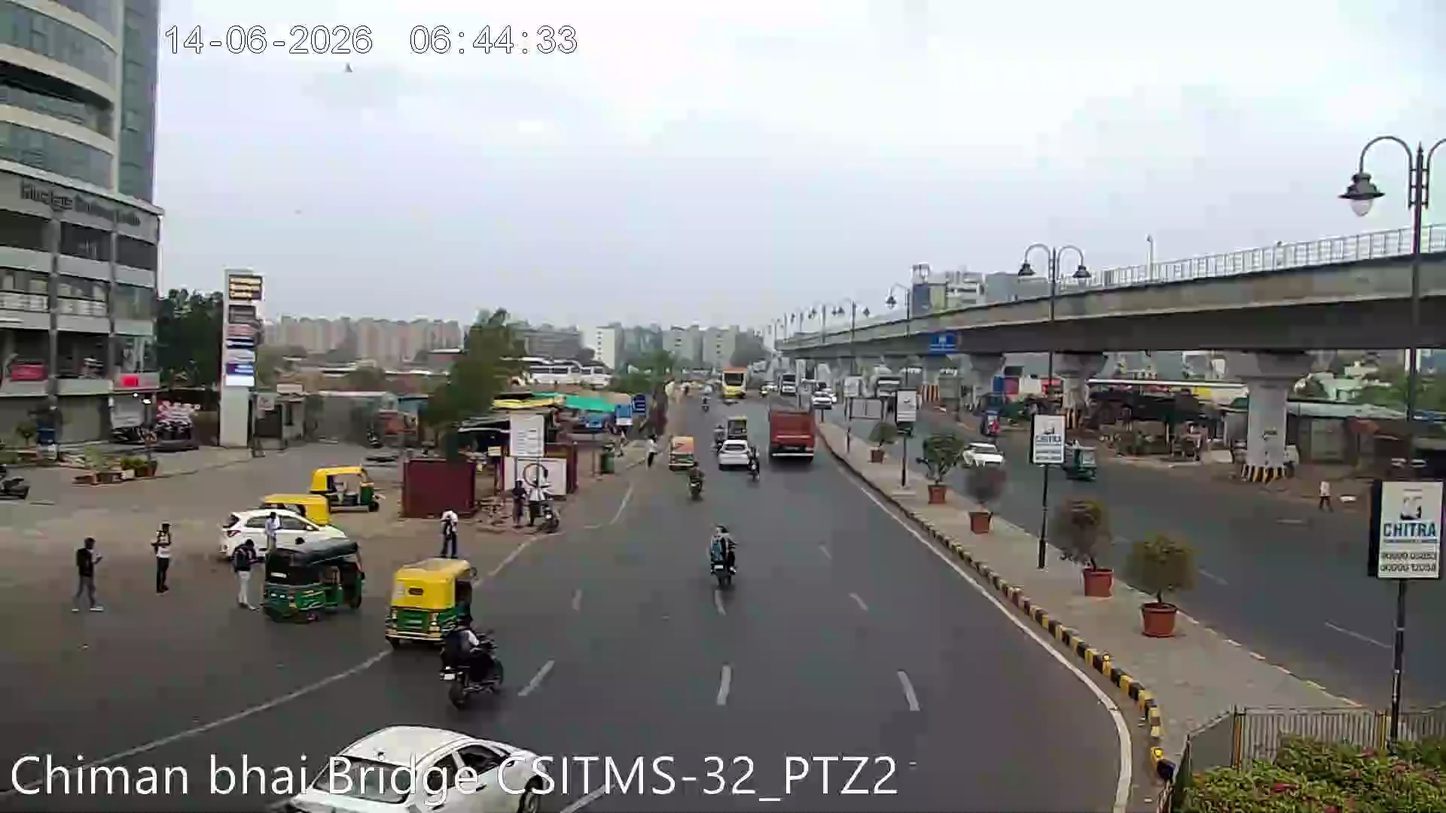auto_rickshaw: (215, 499, 367, 621), (386, 556, 478, 644), (308, 458, 381, 512), (1066, 440, 1101, 483), (667, 429, 697, 466), (719, 373, 748, 402)
bus: (767, 393, 815, 460)
car: (216, 494, 366, 622), (716, 417, 755, 465), (962, 437, 1006, 470), (715, 434, 756, 469)
pedestrian: (703, 518, 742, 620), (68, 527, 107, 618), (145, 515, 180, 603), (1313, 473, 1334, 518), (746, 442, 762, 486), (643, 432, 660, 472)
two_wheeler: (437, 618, 508, 711), (704, 520, 741, 593), (0, 455, 31, 500), (684, 461, 707, 504)
